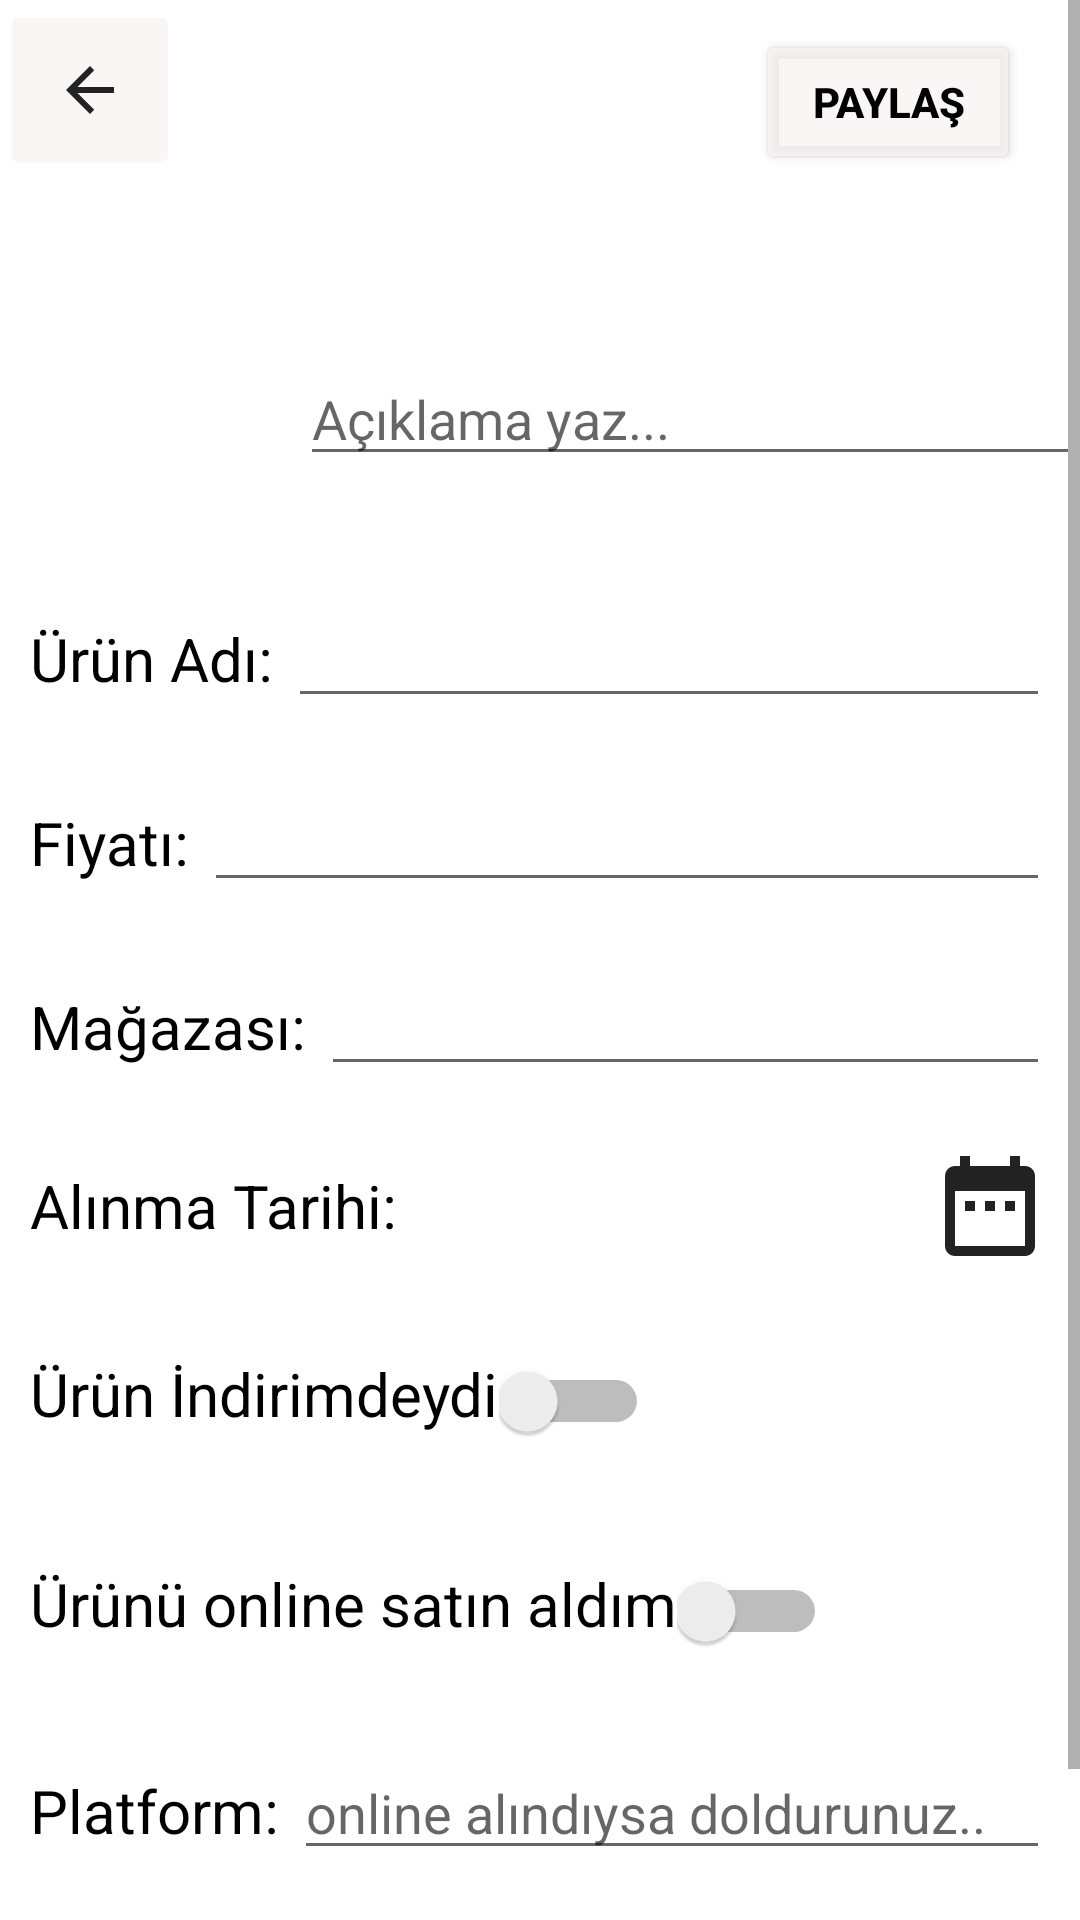

Named icons in this screenshot (1080 × 1920) and their bounding boxes, (x1=x1, y1=y1, x2=x2, y2=y2):
arrow back: (x1=12, y1=18, x2=168, y2=162)
date range: (x1=945, y1=1156, x2=1035, y2=1256)
